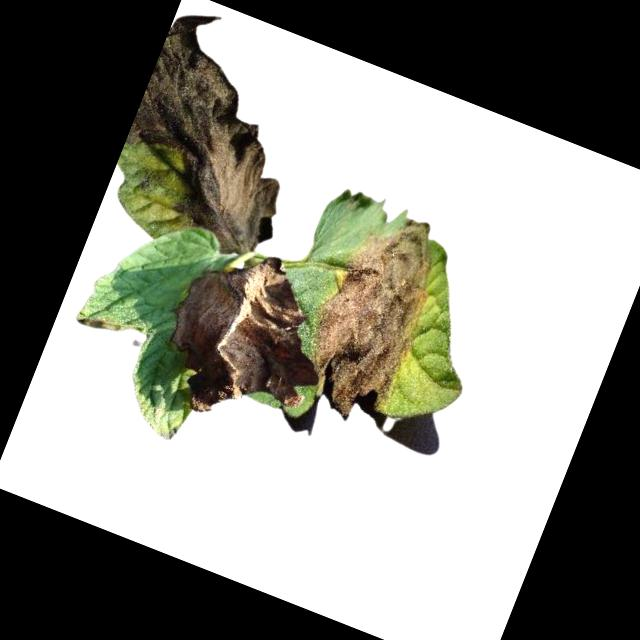Late_blight: (103, 2, 333, 263), (147, 230, 348, 442), (282, 195, 457, 432)
